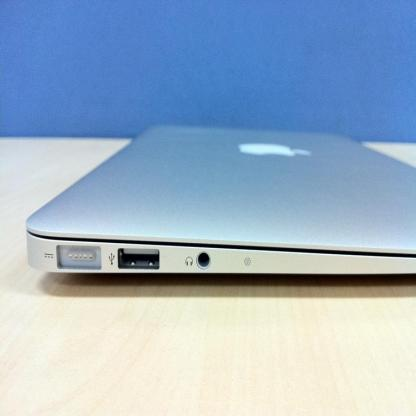board: (22, 120, 415, 294)
